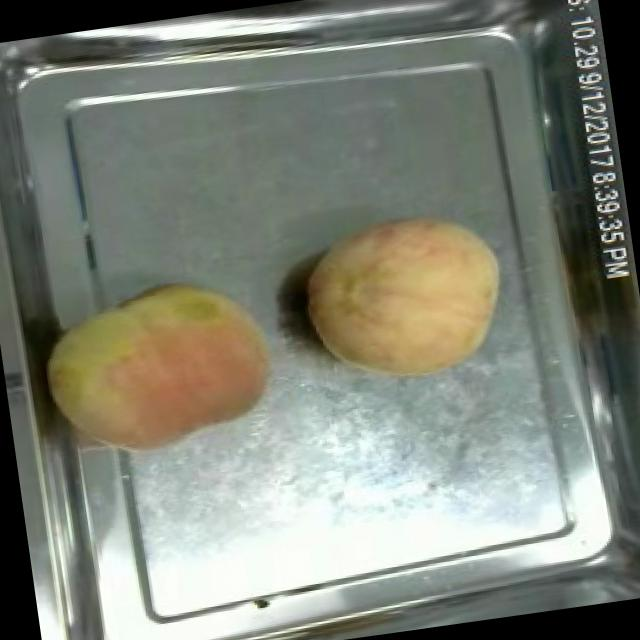Fruit: (24, 263, 290, 475), (292, 196, 522, 397)
